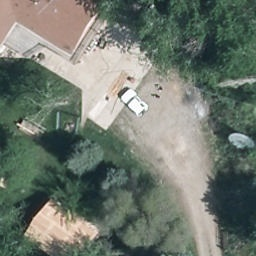car: (118, 88, 151, 120)
